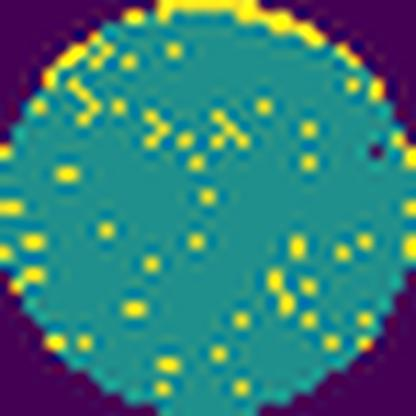Edge-Loc: (157, 0, 329, 50)
